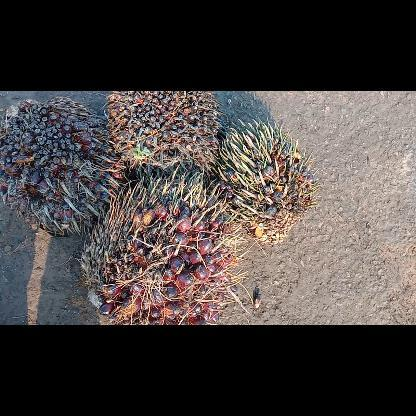TBS abnormal: (0, 96, 134, 238), (216, 115, 322, 248), (100, 90, 228, 186)
TBS masak: (79, 168, 243, 324)
